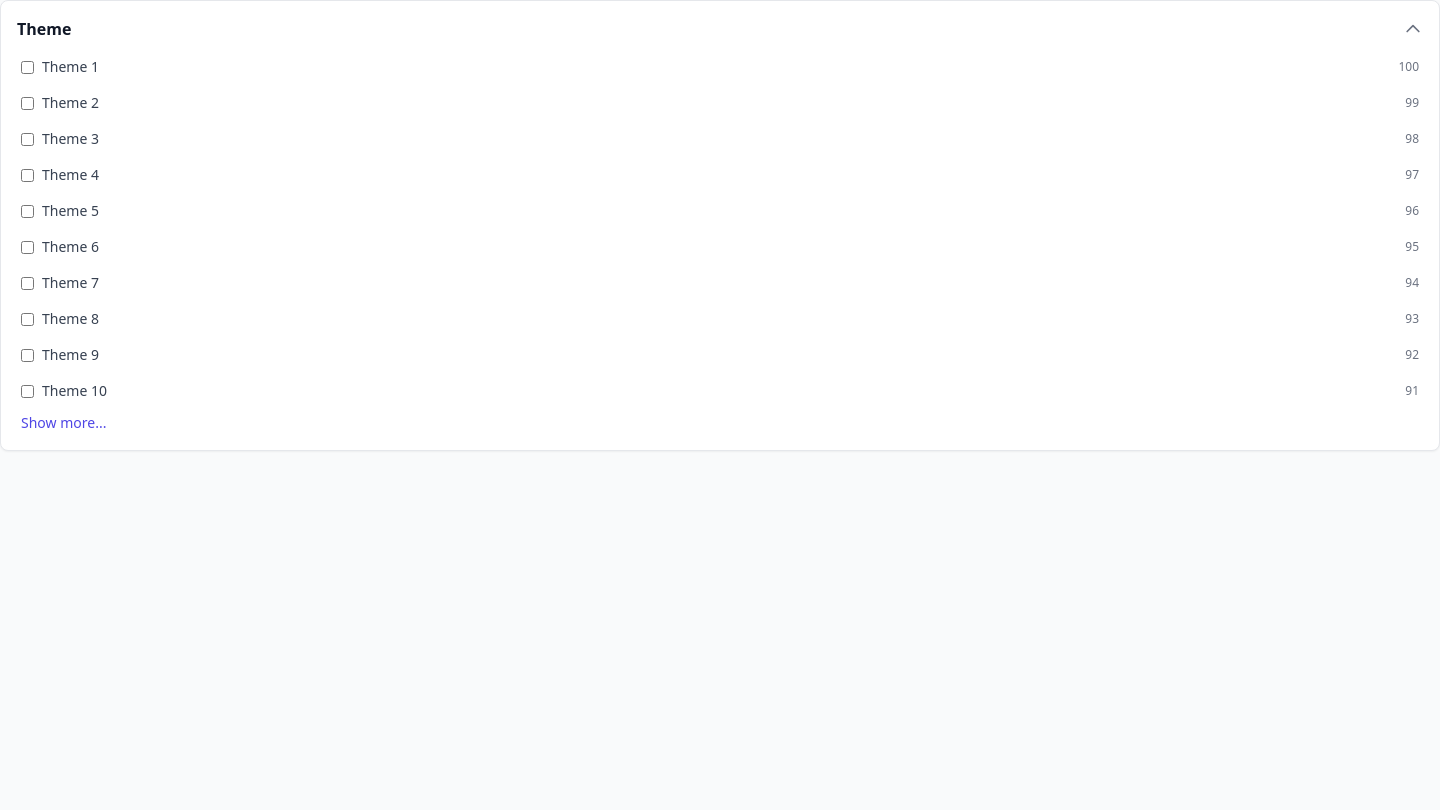
Scenario: Accessibility - Modal Dialogs › FacetPanel modal › should have proper ARIA attributes for modal
This screenshot has width=1440, height=810.
Click the button "Show more..." at (64,423), box [17,413,110,433]
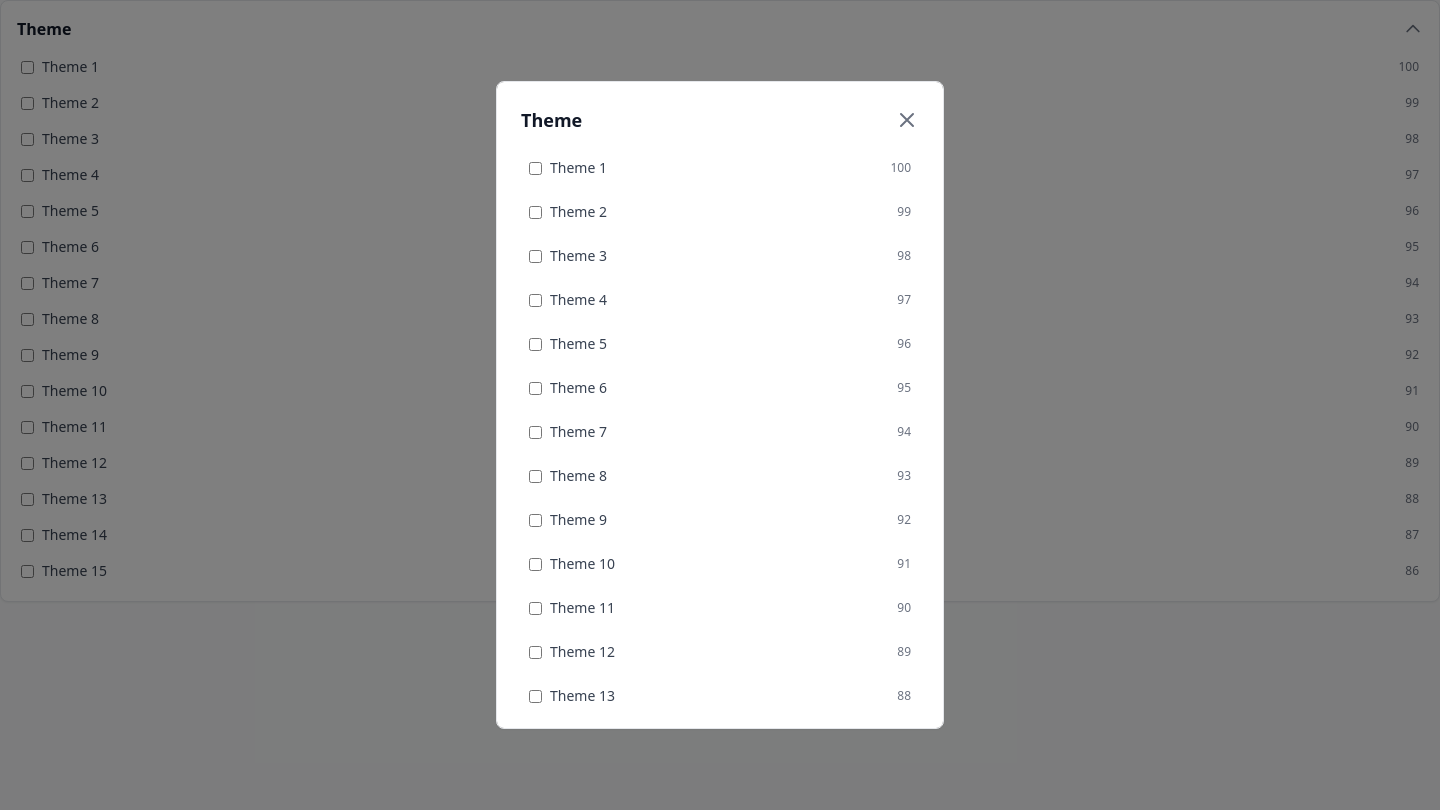
expect the dialog is shown: met, box [496,81,944,729]
